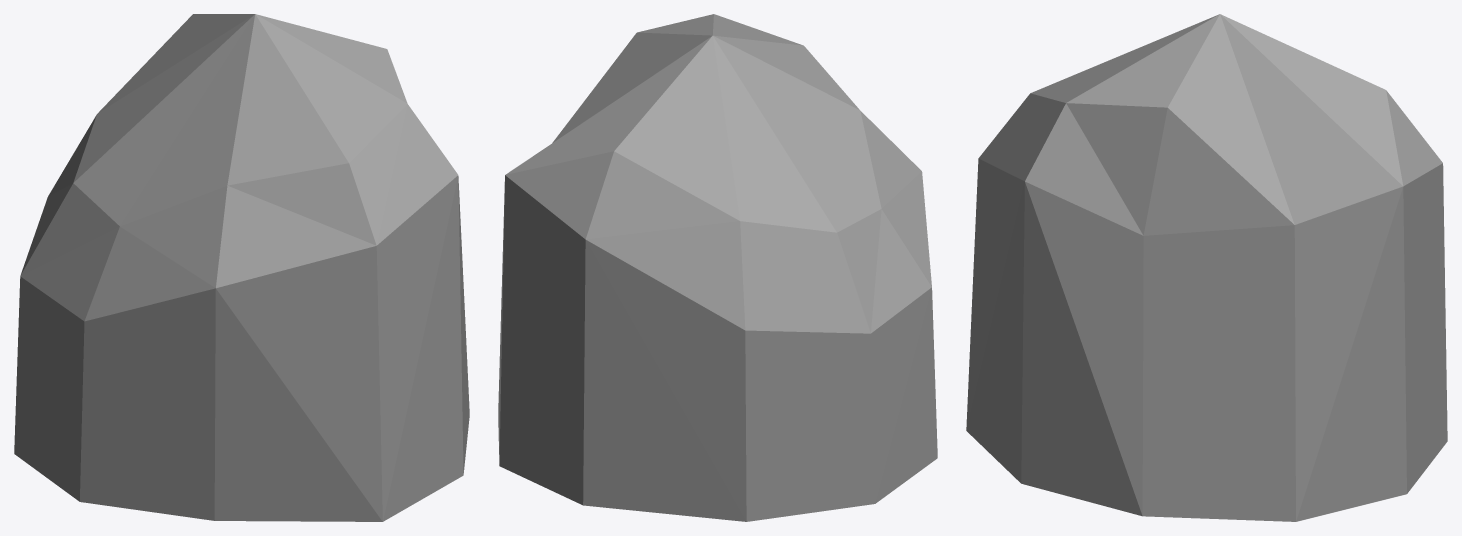
File: Isl_14_Stone_1.fbx
3 renders of one model, left to right at view 1: azimuth 30°, elevation 25°; view 2: azimuth 150°, elevation 25°; view 3: azimuth 270°, elevation 25°, orthographic. The views are drawn at different scales.
Parts seen in each view (by area): view 1: Isl_14_Stone_1; view 2: Isl_14_Stone_1; view 3: Isl_14_Stone_1.
Part boxes in pixels (box(x1,y1,x2,y2)): Isl_14_Stone_1: box(14, 14, 469, 521); Isl_14_Stone_1: box(498, 14, 937, 521); Isl_14_Stone_1: box(966, 14, 1447, 521).
Bounding box in the file's own units: 148 × 157 × 149.
Materials: 1 (1 with a texture image).
